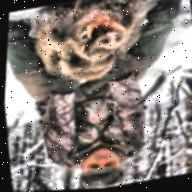boar: (27, 0, 167, 91)
